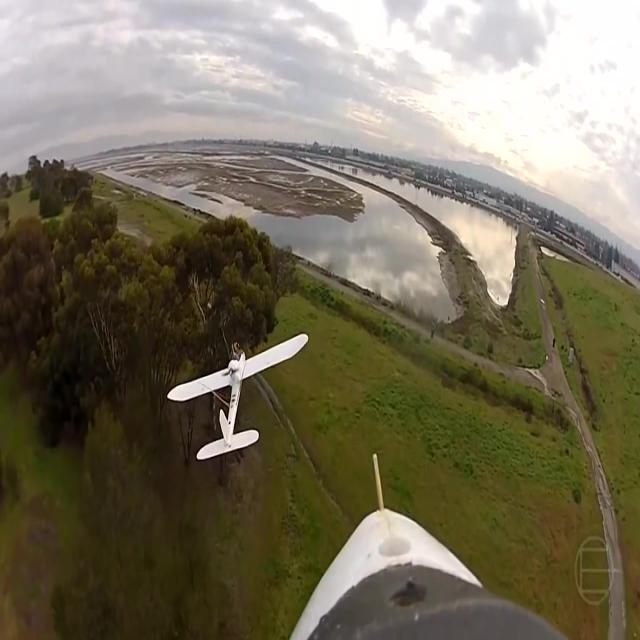iha: (166, 331, 309, 463)
